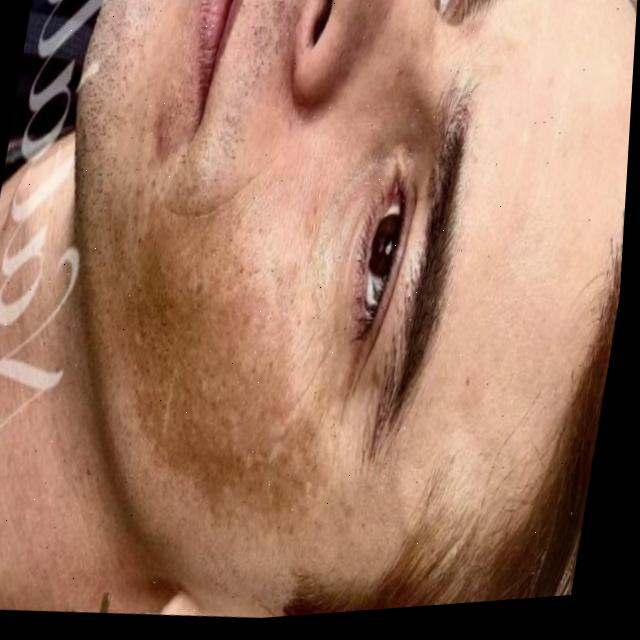Melasma: (84, 136, 395, 561)
